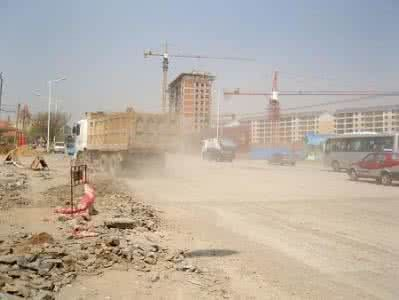dust: (164, 147, 241, 174)
